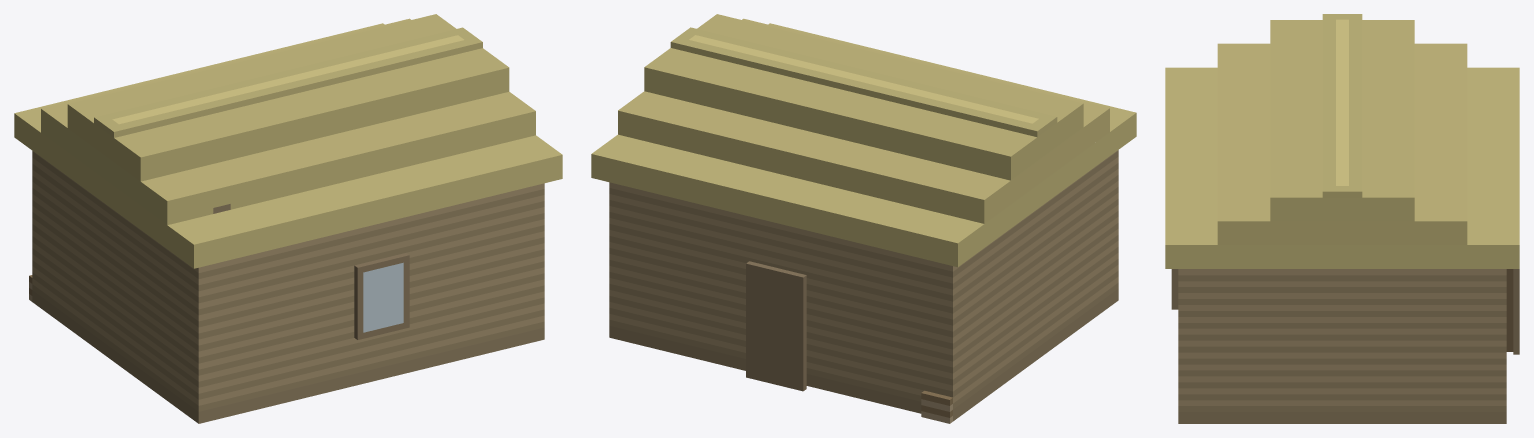
The model's file is choza_pescador_01.glb.
The picture shows the model from 3 angles, left to right: view 1: azimuth 30°, elevation 25°; view 2: azimuth 150°, elevation 25°; view 3: azimuth 270°, elevation 25°; orthographic projection.
Parts seen in each view (by area): view 1: choza_pescador_01; view 2: choza_pescador_01; view 3: choza_pescador_01.
Part boxes in pixels (x1,y1,x2,y2): choza_pescador_01: [14, 14, 562, 423]; choza_pescador_01: [591, 14, 1136, 423]; choza_pescador_01: [1165, 14, 1519, 423].
Size of the model in its own units: 6.4 by 4 by 5.4.
